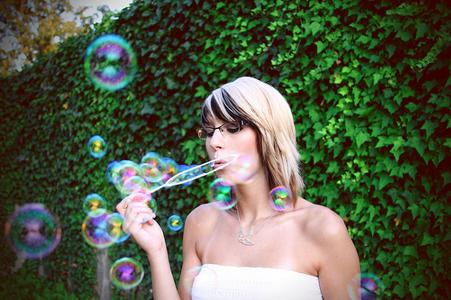person: (107, 72, 367, 300)
